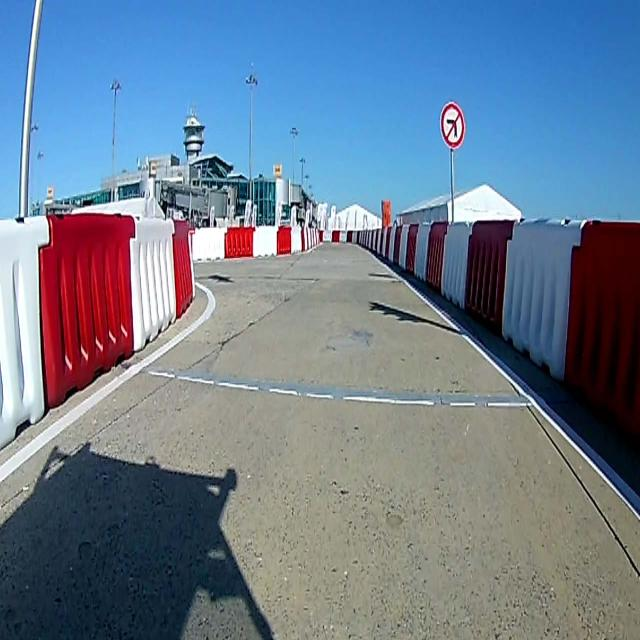soladonulmez: (441, 103, 464, 149)
